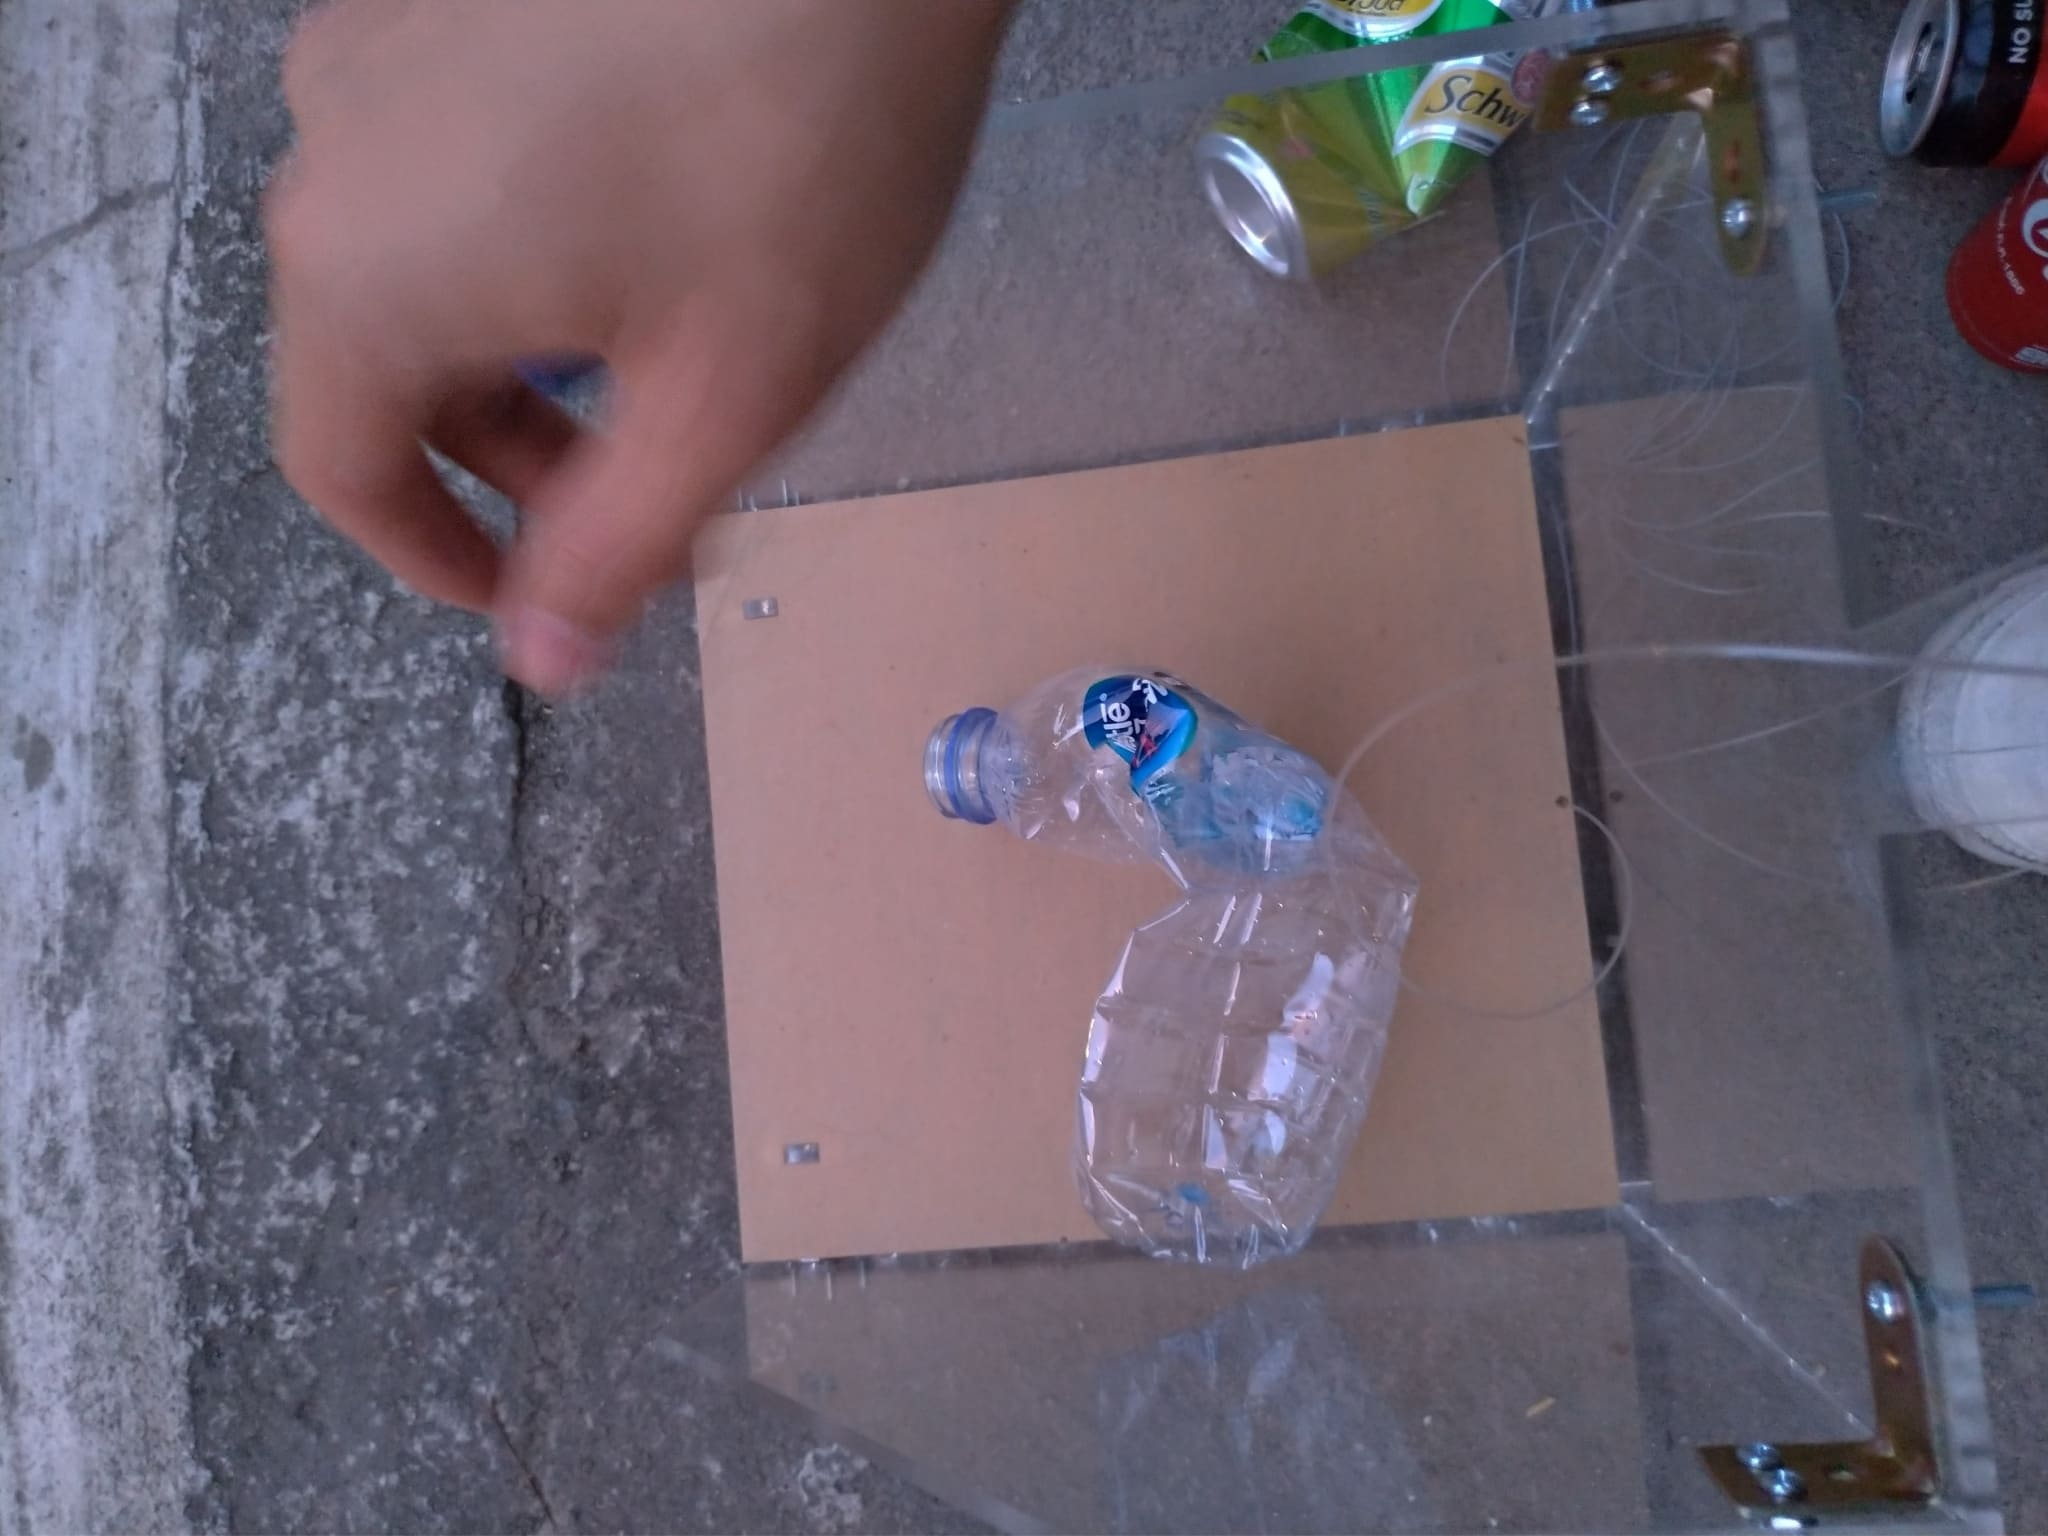AlCan: (1200, 10, 1559, 289), (1879, 6, 2048, 371)
PlasticBottle: (929, 665, 1426, 1262)
